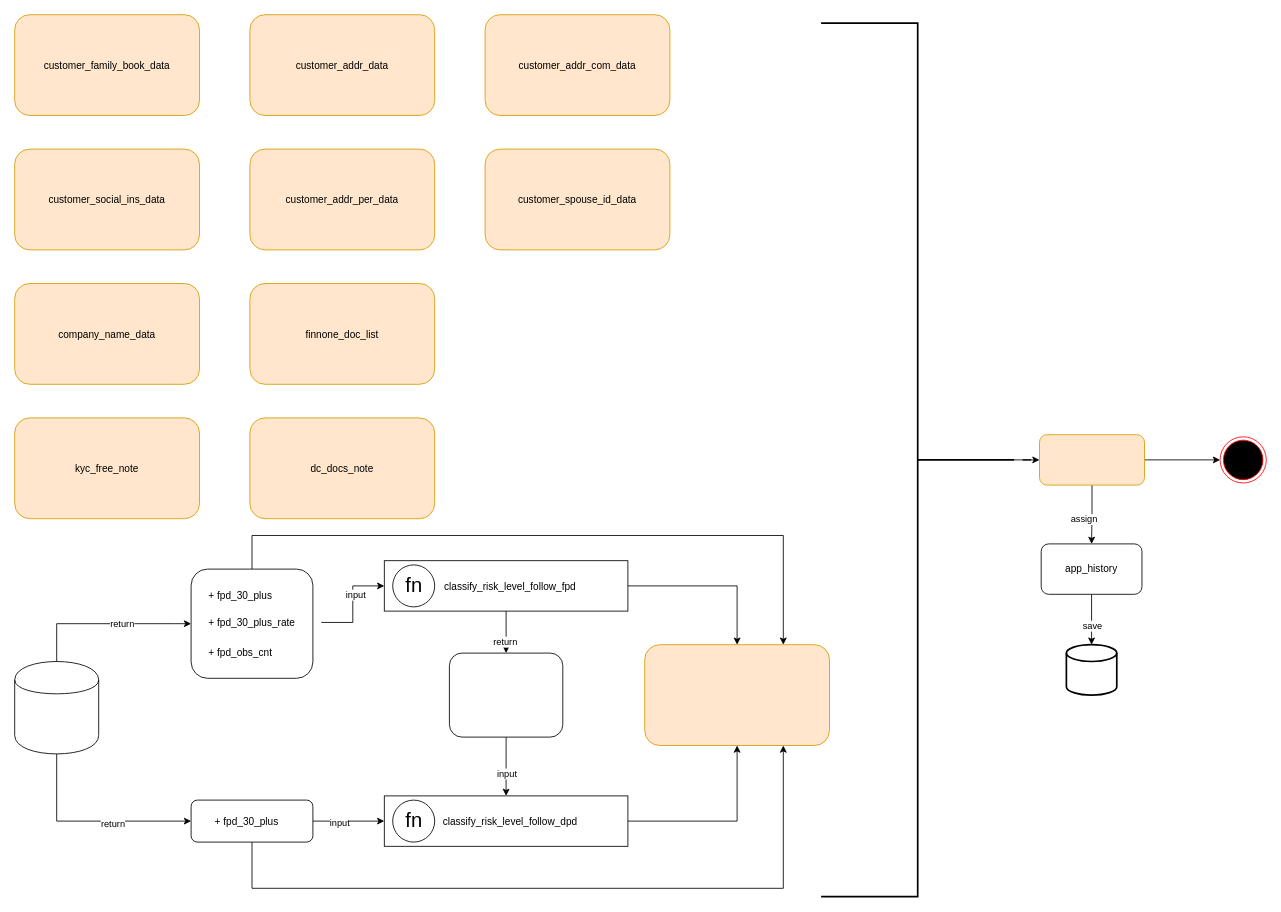
This 1281x912 diagram has some shape labels left out. The shapes that lost their labels are listed below. From the top down, each one's box as (x1, y1, x2, y2) in pixels, then its label:
(1039, 434, 1144, 485): customer_f1_data (json response)
(1065, 643, 1117, 696): risk_app
(14, 661, 99, 754): sale_fraud_ratio
(449, 652, 563, 737): fpd_alert: - not observe - low risk - medium risk - high risk
(644, 644, 830, 746): sale
